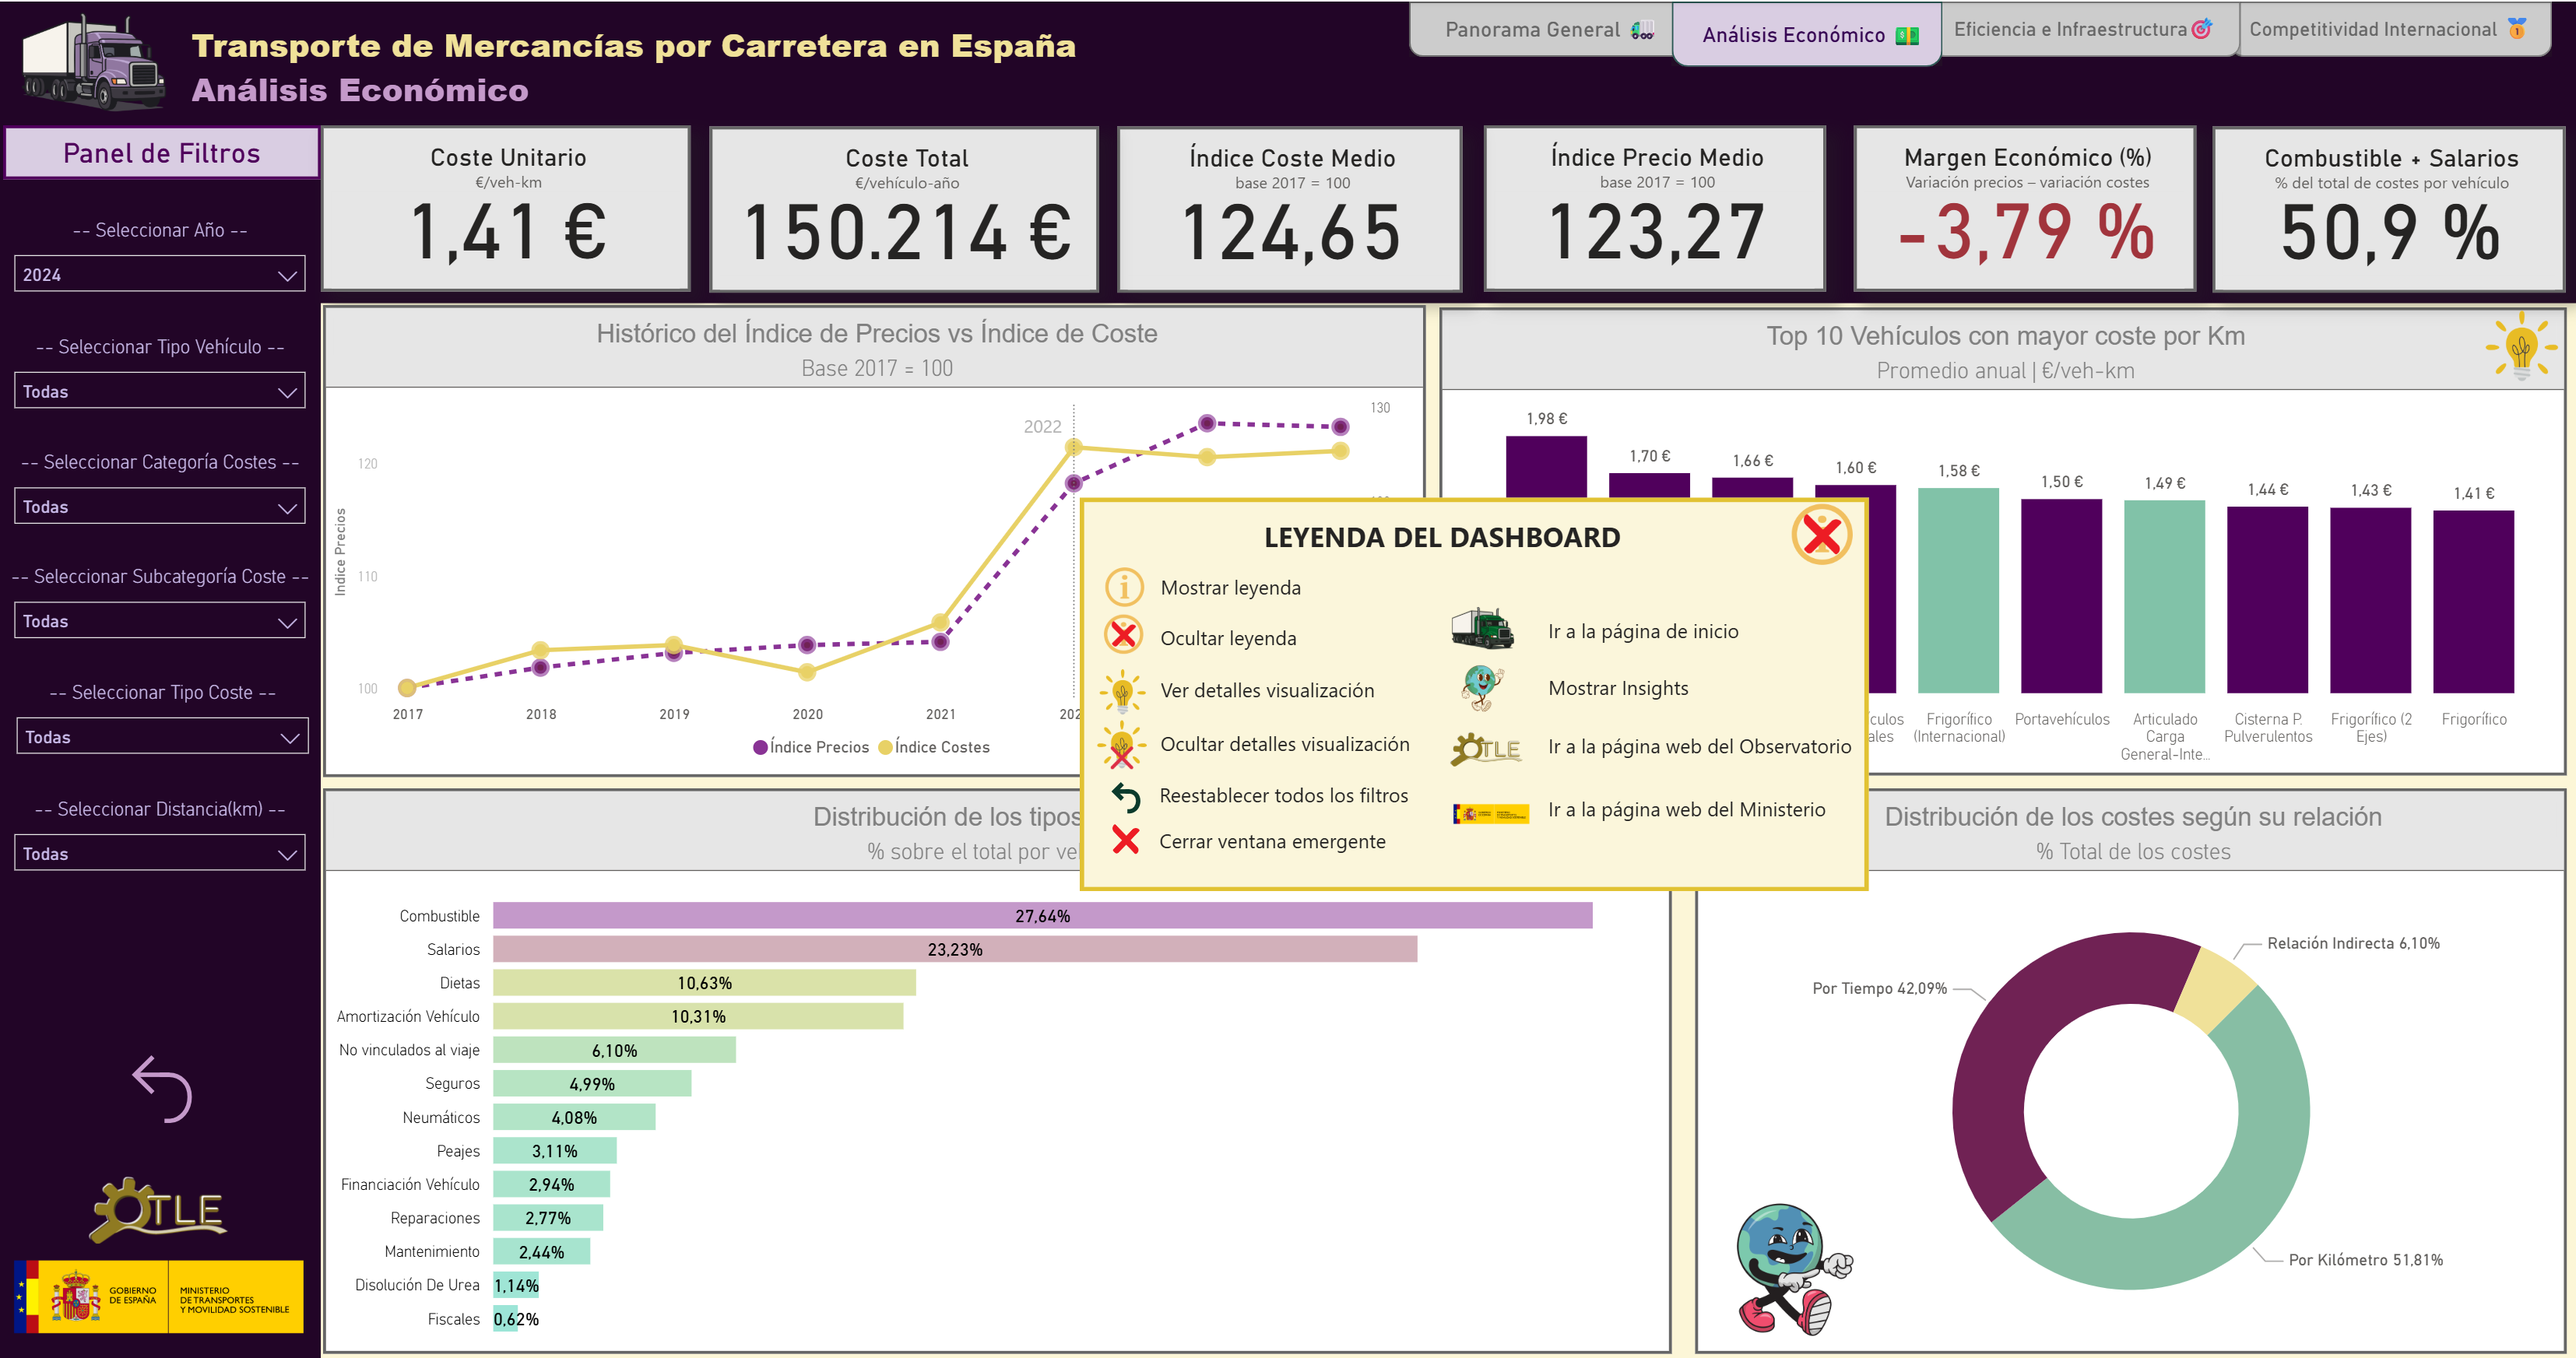

What the dashboard file says about the page in this screenshot:
{"tool":"powerbi","page":{"name":"Análisis Económico","canvas":[1747,920],"ordinal":2},"visuals":[{"type":"group","id":"g1","title":"Panel diseño","box":[0,0,1800,919.7],"z":0},{"type":"shape","box":[0,0,1800,204.6],"z":0,"group":"g1"},{"type":"shape","box":[0,81.2,218.5,838.5],"z":1000,"group":"g1"},{"type":"slicer","title":"-- Seleccionar Año --","fields":{"Values":["Año Dim.Año"]},"box":[0.9,146.8,217.6,63.9],"z":1000},{"type":"textbox","box":[125.8,8.7,637.8,70.4],"z":2000,"group":"g1"},{"type":"slicer","title":"-- Seleccionar Tipo Vehículo --","fields":{"Values":["Dim Vehiculo.Vehiculo"]},"box":[0.9,226.1,217.6,63],"z":2000},{"type":"slicer","title":"-- Seleccionar Subcategoría Coste --","fields":{"Values":["Dim Tipo Costes.Categoría (Según se miden)"]},"box":[1,382.3,217.6,63.3],"z":3000},{"type":"slicer","title":"-- Seleccionar Distancia(km) --","fields":{"Values":["C0497 Indice Precios.Distancia(Km)"]},"box":[1,539.7,217.6,64.2],"z":4000},{"type":"textbox","box":[3.2,83.9,215.2,36.4],"z":5000},{"type":"donutChart","title":"Distribución de los costes según su relación","fields":{"Y":["Medidas Económico.Total Costes"],"Series":["Dim Tipo Costes.Categoría (Según se miden)"]},"box":[1149.9,533,590.4,383.6],"z":6000},{"type":"slicer","title":"-- Seleccionar Categoría Costes --","fields":{"Values":["Dim Tipo Costes.Categoría (Según Relación)"]},"box":[1,304.6,217.6,62.3],"z":7000},{"type":"shape","box":[1512.6,0,218.2,37.5],"z":8000},{"type":"shape","box":[1309.3,0,209.8,37.5],"z":9000},{"type":"shape","box":[956.2,0,193.9,37.5],"z":10000},{"type":"image","box":[4,846.7,208.9,62.5],"z":11000},{"type":"image","box":[3.6,791.4,208.6,55.8],"z":12000},{"type":"actionButton","box":[81.5,705.2,59,63.7],"z":13000},{"type":"shape","box":[1133.9,0,183.6,44.3],"z":14000},{"type":"clusteredColumnChart","title":"Top 10 Vehículos con mayor coste por Km","fields":{"Category":["Dim Vehiculo.Vehiculo"],"Y":["Medidas Económico.Promedio Coste Vehiculo-km"]},"box":[976.8,206.9,764,317.5],"z":15000},{"type":"cardVisual","title":"Coste Unitario","fields":{"Data":["Medidas Económico.Promedio Coste Vehiculo-km"]},"box":[218.6,83.9,250.9,112.8],"z":16000},{"type":"cardVisual","title":"Índice Precio Medio","fields":{"Data":["Medidas Económico.Promedio Precio"]},"box":[1006.2,83.9,231.7,112.8],"z":17000},{"type":"cardVisual","title":"Índice Coste Medio","fields":{"Data":["Medidas Económico.Indice Coste Medio"]},"box":[758,84.8,234.3,112.8],"z":18000},{"type":"cardVisual","title":"Coste Total","fields":{"Data":["Medidas Económico.Promedio Coste Vehiculo"]},"box":[481.7,84.8,264,112.8],"z":19000},{"type":"cardVisual","title":"Margen Económico (%)","fields":{"Data":["Medidas Económico.Margen Económico (%)"]},"box":[1257.1,83.9,231.7,112.8],"z":20000},{"type":"cardVisual","title":"Combustible + Salarios","fields":{"Data":["Medidas Económico.Coste Combustible y Salarios (%)"]},"box":[1500.2,84.8,239.5,112.8],"z":21000},{"type":"slicer","title":"-- Seleccionar Tipo Coste --","fields":{"Values":["Dim Tipo Costes.Tipo Costes"]},"box":[2.7,460.1,217.8,62.9],"z":22000},{"type":"lineChart","title":"Histórico del Índice de Precios vs Índice de Coste","fields":{"Y":["Avg(KPI Costes vs Precios.Indice Precios)"],"Y2":["Avg(KPI Costes vs Precios.Indice Costes)"],"Category":["Dim Año.Año"]},"box":[219.6,205.9,747.2,319.8],"z":23000},{"type":"clusteredBarChart","title":"Distribución de los tipos de coste","fields":{"Category":["Dim Tipo Costes.Tipo Costes"],"Y":["Divide(Medidas Económico.Total Costes, ScopedEval(Medidas Económico.Total Costes, []))"]},"box":[219.6,533,913.9,383.6],"z":24000},{"type":"image","box":[4,0,121.9,81.5],"z":25000},{"type":"image","box":[76.8,629.4,64.6,66.5],"z":26000},{"type":"image","box":[1165.4,807.3,103.9,102.1],"z":27000},{"type":"image","box":[809.1,416.4,109.3,106.6],"z":28000},{"type":"image","box":[1679.7,201.9,60.7,63.6],"z":33000}]}

Visuals, with their boxes in screenshot pixels (x1, y1, x2, y2), scaled from the page's 1747x920 canvas onto the 2576x1358 screenshot:
"Panel diseño" group: {"x1": 0, "y1": 0, "x2": 2575, "y2": 1357}
shape: {"x1": 0, "y1": 0, "x2": 2575, "y2": 302}
shape: {"x1": 0, "y1": 120, "x2": 322, "y2": 1357}
"-- Seleccionar Año --" slicer: {"x1": 2, "y1": 216, "x2": 322, "y2": 311}
textbox: {"x1": 185, "y1": 13, "x2": 1126, "y2": 117}
"-- Seleccionar Tipo Vehículo --" slicer: {"x1": 2, "y1": 334, "x2": 322, "y2": 426}
"-- Seleccionar Subcategoría Coste --" slicer: {"x1": 2, "y1": 564, "x2": 322, "y2": 658}
"-- Seleccionar Distancia(km) --" slicer: {"x1": 2, "y1": 797, "x2": 322, "y2": 891}
textbox: {"x1": 5, "y1": 124, "x2": 322, "y2": 177}
"Distribución de los costes según su relación" donutChart: {"x1": 1696, "y1": 787, "x2": 2566, "y2": 1353}
"-- Seleccionar Categoría Costes --" slicer: {"x1": 2, "y1": 450, "x2": 322, "y2": 542}
shape: {"x1": 2230, "y1": 0, "x2": 2552, "y2": 55}
shape: {"x1": 1931, "y1": 0, "x2": 2240, "y2": 55}
shape: {"x1": 1410, "y1": 0, "x2": 1696, "y2": 55}
image: {"x1": 6, "y1": 1250, "x2": 314, "y2": 1342}
image: {"x1": 5, "y1": 1168, "x2": 313, "y2": 1251}
actionButton: {"x1": 120, "y1": 1041, "x2": 207, "y2": 1135}
shape: {"x1": 1672, "y1": 0, "x2": 1942, "y2": 65}
"Top 10 Vehículos con mayor coste por Km" clusteredColumnChart: {"x1": 1440, "y1": 305, "x2": 2567, "y2": 774}
"Coste Unitario" cardVisual: {"x1": 322, "y1": 124, "x2": 692, "y2": 290}
"Índice Precio Medio" cardVisual: {"x1": 1484, "y1": 124, "x2": 1826, "y2": 290}
"Índice Coste Medio" cardVisual: {"x1": 1118, "y1": 125, "x2": 1464, "y2": 292}
"Coste Total" cardVisual: {"x1": 710, "y1": 125, "x2": 1099, "y2": 292}
"Margen Económico (%)" cardVisual: {"x1": 1854, "y1": 124, "x2": 2195, "y2": 290}
"Combustible + Salarios" cardVisual: {"x1": 2212, "y1": 125, "x2": 2565, "y2": 292}
"-- Seleccionar Tipo Coste --" slicer: {"x1": 4, "y1": 679, "x2": 325, "y2": 772}
"Histórico del Índice de Precios vs Índice de Coste" lineChart: {"x1": 324, "y1": 304, "x2": 1425, "y2": 776}
"Distribución de los tipos de coste" clusteredBarChart: {"x1": 324, "y1": 787, "x2": 1671, "y2": 1353}
image: {"x1": 6, "y1": 0, "x2": 185, "y2": 121}
image: {"x1": 113, "y1": 929, "x2": 209, "y2": 1027}
image: {"x1": 1718, "y1": 1191, "x2": 1871, "y2": 1342}
image: {"x1": 1193, "y1": 615, "x2": 1355, "y2": 772}
image: {"x1": 2477, "y1": 298, "x2": 2566, "y2": 392}
